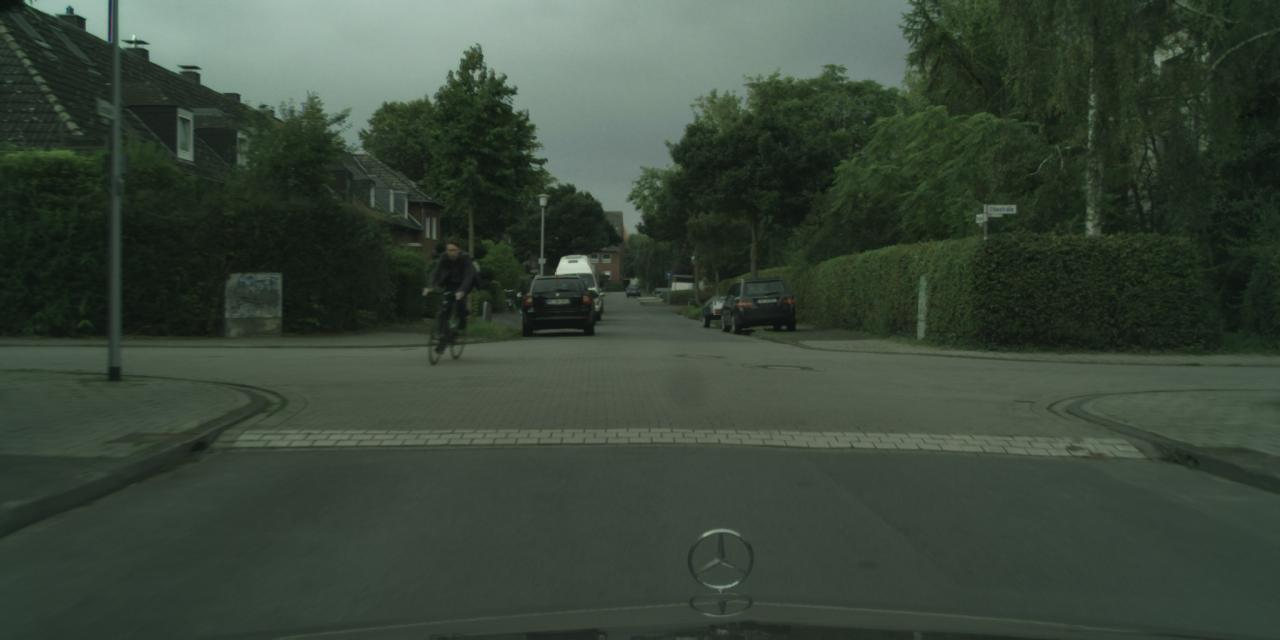ped: (432, 238, 472, 336)
